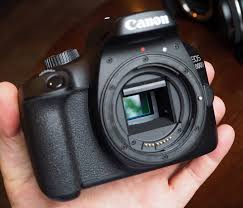camera: (18, 16, 216, 201)
